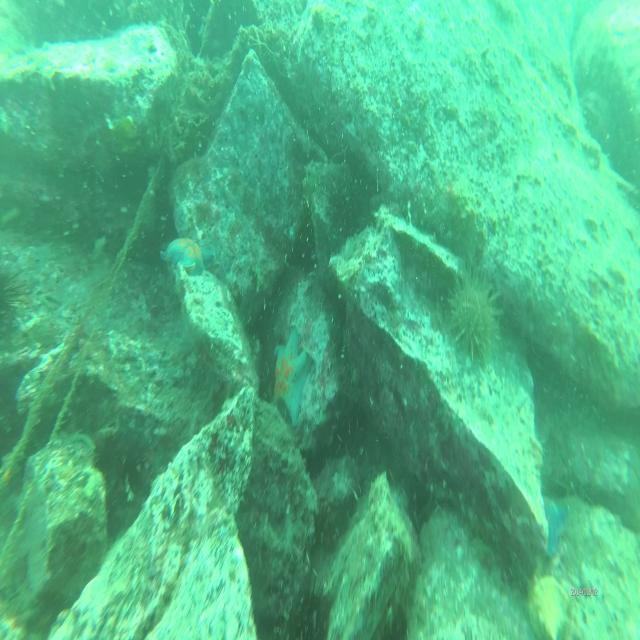echinus: (444, 262, 508, 374), (0, 267, 25, 365)
starfish: (272, 328, 308, 427), (162, 233, 216, 277), (539, 493, 570, 561)
